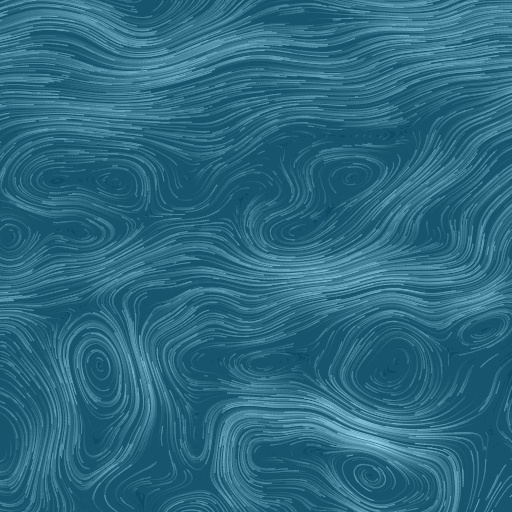eddy: (259, 151, 386, 251), (9, 153, 151, 215), (344, 328, 443, 413), (70, 327, 131, 424), (232, 346, 302, 382), (457, 310, 510, 350), (350, 458, 391, 494), (58, 217, 102, 248), (1, 220, 35, 258)
